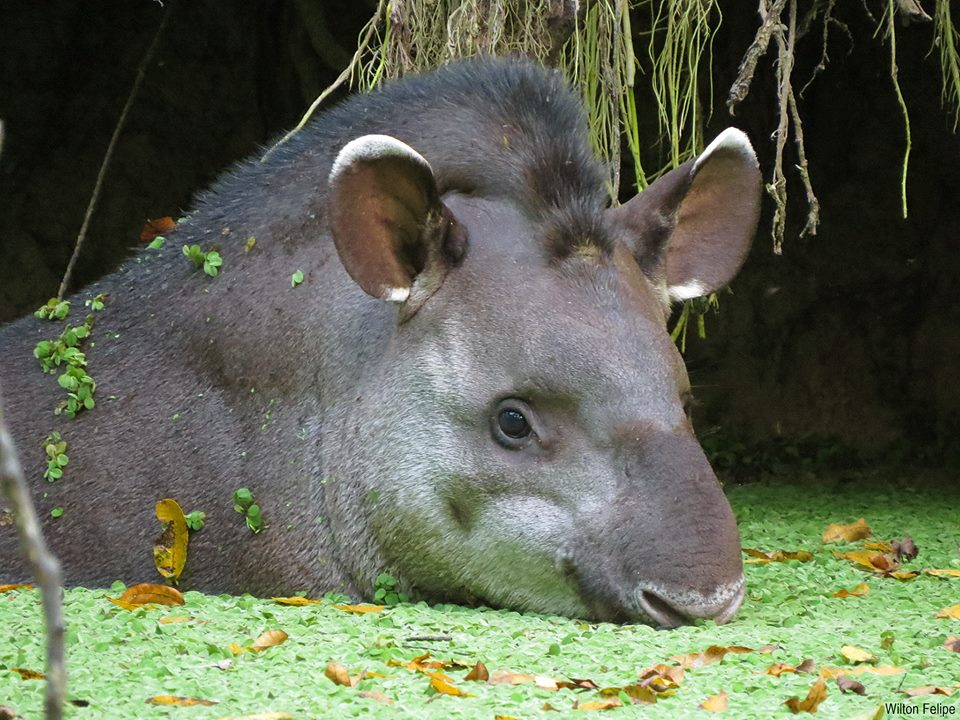Anta: (44, 54, 779, 634)
